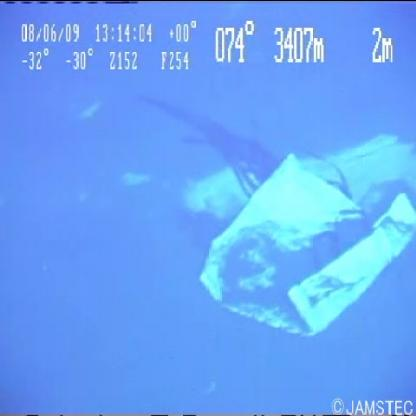Rác: (150, 109, 416, 361)
